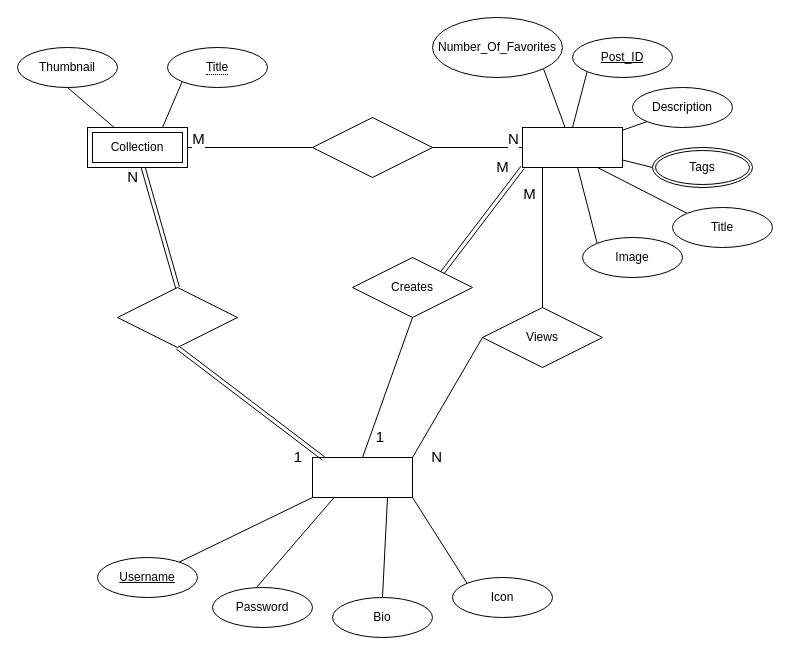
Some shapes in this 790 by 655 pixel diagram are drawn without their labels. The box of each missing label's shape, as (x1, y1, x2, y2) in pixels:
Contains: (312, 116, 432, 178)
Has: (116, 286, 238, 348)
Post: (522, 126, 622, 168)
User: (312, 456, 412, 498)
